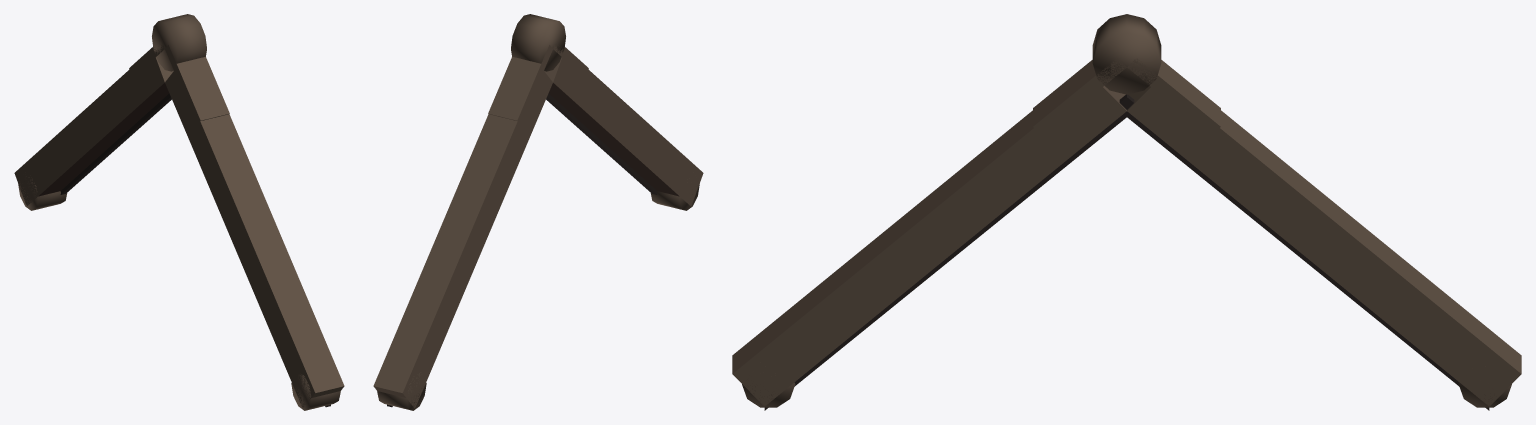
Rendered from kit_timber_thatch_w3_end.glb.
3 views of the same model, side by side, from view 1: azimuth 30°, elevation 25°; view 2: azimuth 150°, elevation 25°; view 3: azimuth 270°, elevation 25° (orthographic). The views are drawn at different scales.
Parts seen in each view (by area): view 1: kit_timber_thatch_w3_end; view 2: kit_timber_thatch_w3_end; view 3: kit_timber_thatch_w3_end.
Boxes of the visible parts, x1=… form: kit_timber_thatch_w3_end: x1=14, y1=14, x2=344, y2=410; kit_timber_thatch_w3_end: x1=373, y1=14, x2=703, y2=410; kit_timber_thatch_w3_end: x1=732, y1=14, x2=1521, y2=410.
Bounding box in the file's own units: 0.22 × 2.08 × 3.92.
